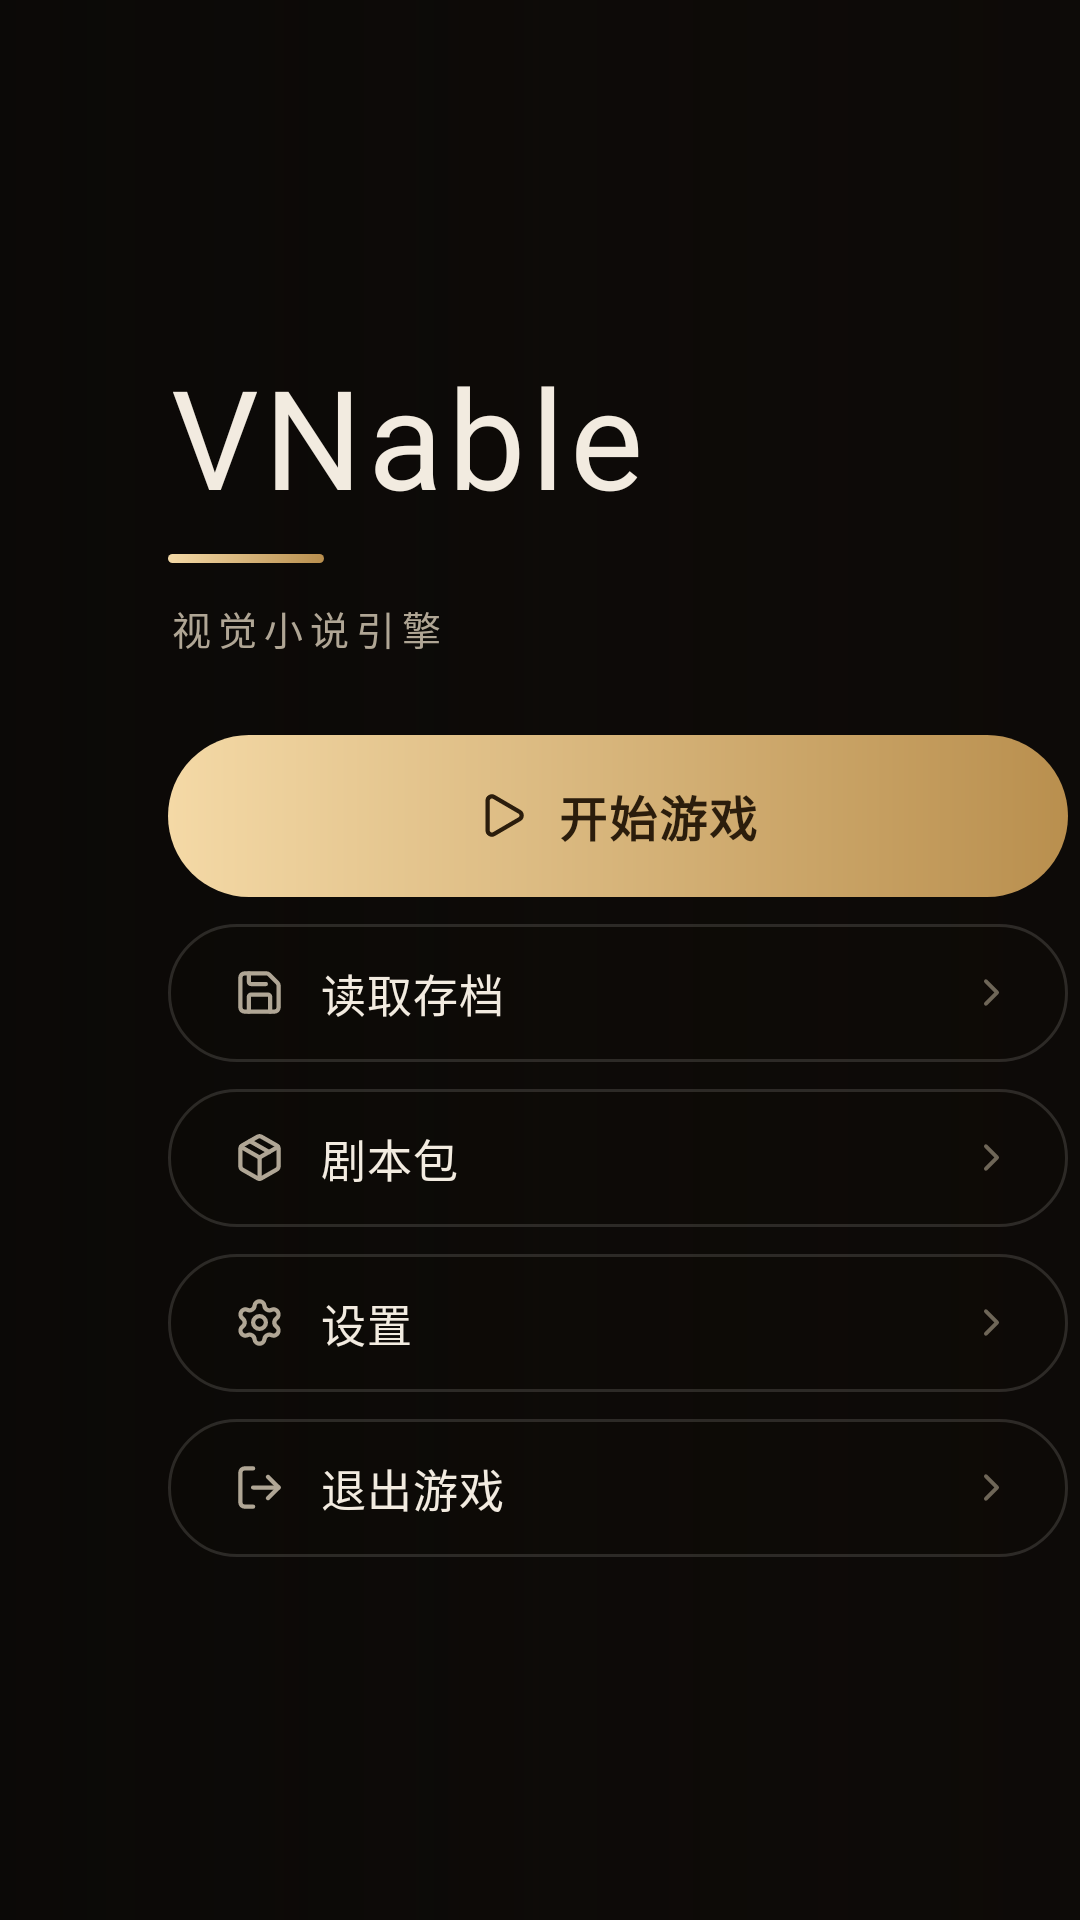

Icon click points for this 1080px×1920px phone screenshot, format [x,y]:
chevron right: [991,992], [991,1157], [991,1322], [991,1487]
exit: [259,1487]
pack: [259,1157]
play: [504,815]
save: [259,992]
settings: [259,1322]
